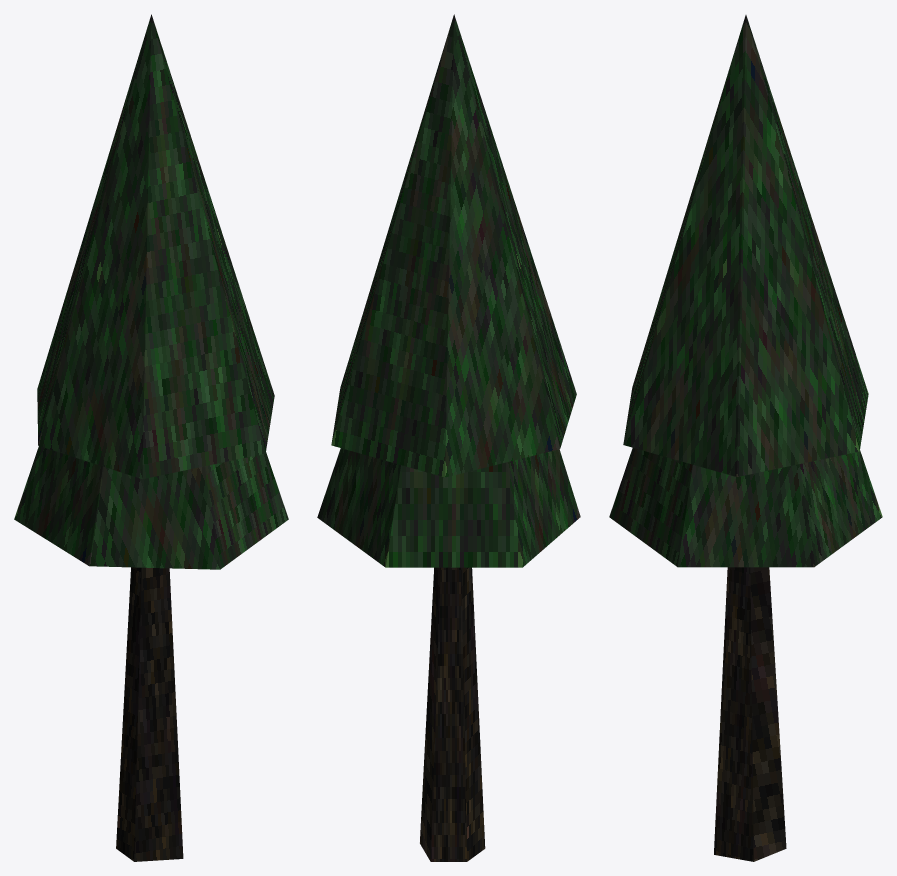
File: pinetree.obj
3 renders of one model, left to right at view 1: azimuth 30°, elevation 25°; view 2: azimuth 150°, elevation 25°; view 3: azimuth 270°, elevation 25°, orthographic.
Parts seen in each view (by area): view 1: pinetree; view 2: pinetree; view 3: pinetree.
Boxes of the visible parts, left/top/right/bottom form: pinetree: left=14, top=14, right=288, bottom=861; pinetree: left=317, top=14, right=580, bottom=861; pinetree: left=609, top=15, right=882, bottom=861.
Size of the model in its own units: 0.1462 by 0.5116 by 0.1522.
2 materials, 2 textured.
